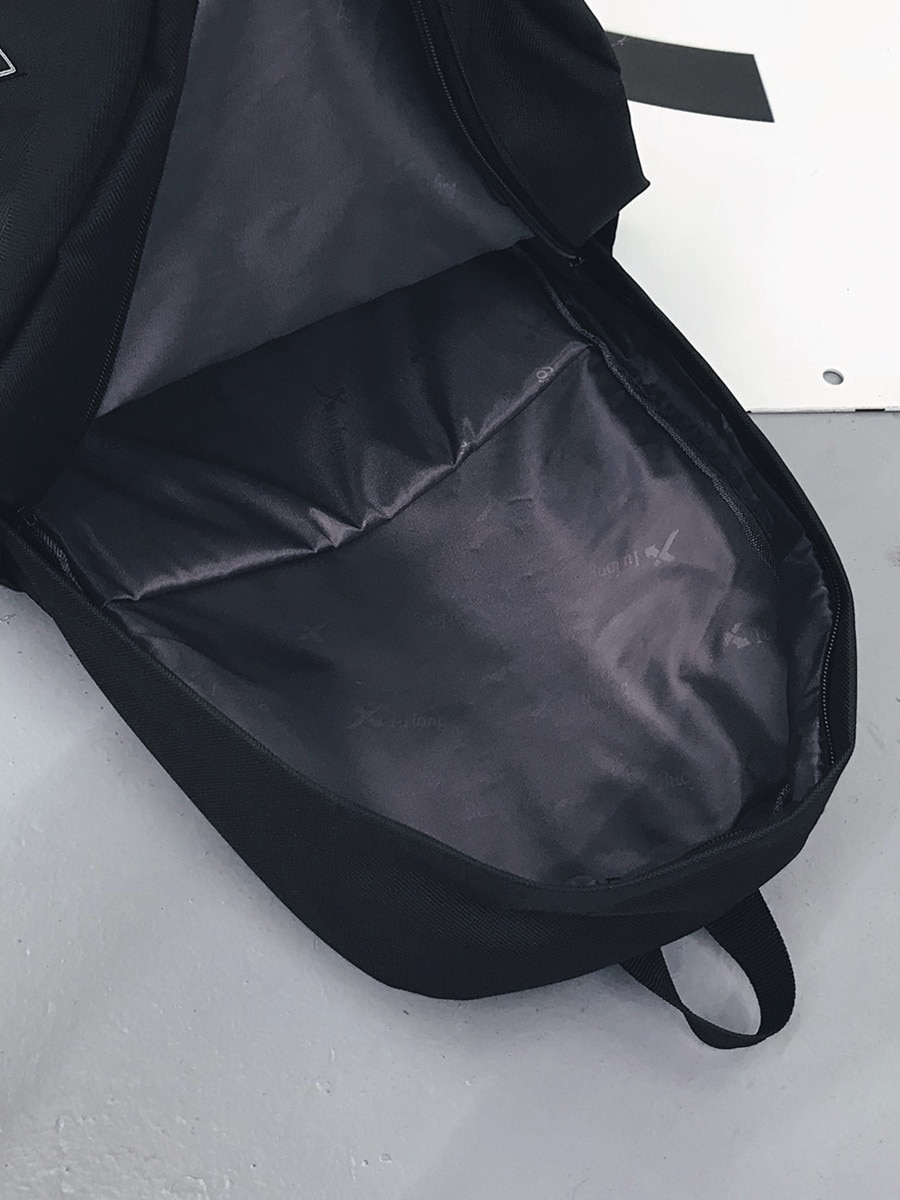Men's Backpacks: (1, 1, 868, 1063)
